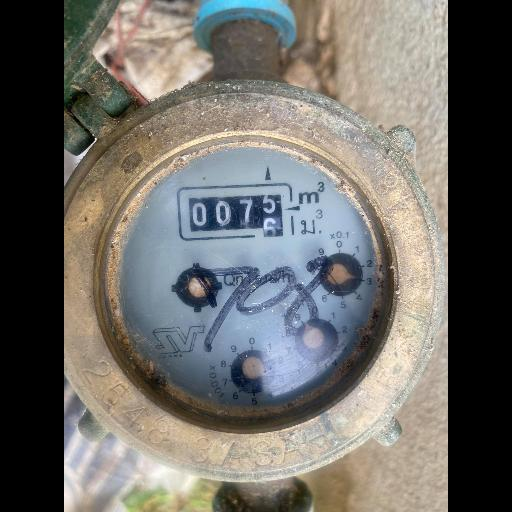0: (212, 197, 238, 231), (189, 197, 214, 231)
5: (261, 195, 283, 238)
7: (235, 195, 263, 230)
border_water_meter_number: (177, 183, 295, 241)
